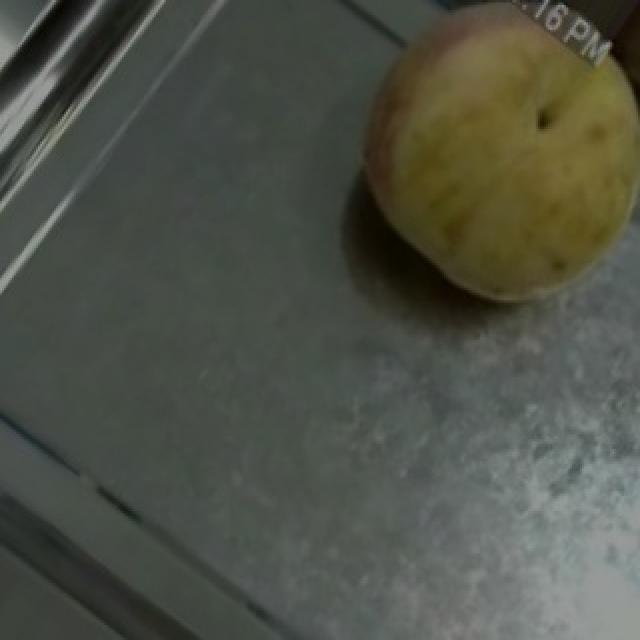Fruit: (312, 0, 640, 350)
